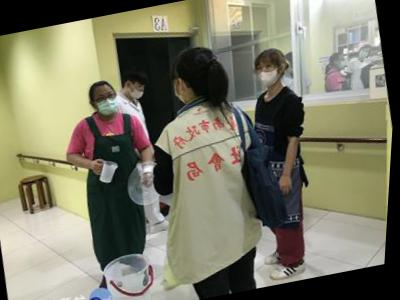OK: (254, 58, 283, 89), (95, 89, 122, 119), (171, 72, 194, 107), (338, 57, 348, 70), (360, 48, 370, 59)
WRONG: (128, 82, 150, 101)
